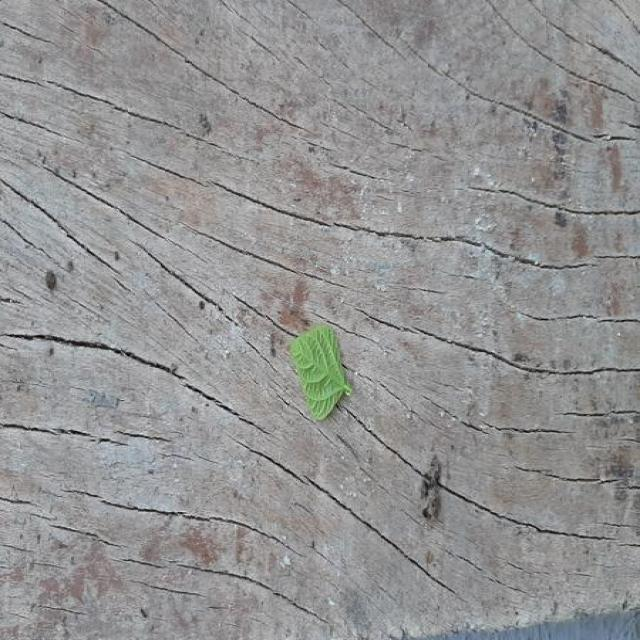beans: (290, 325, 352, 419)
